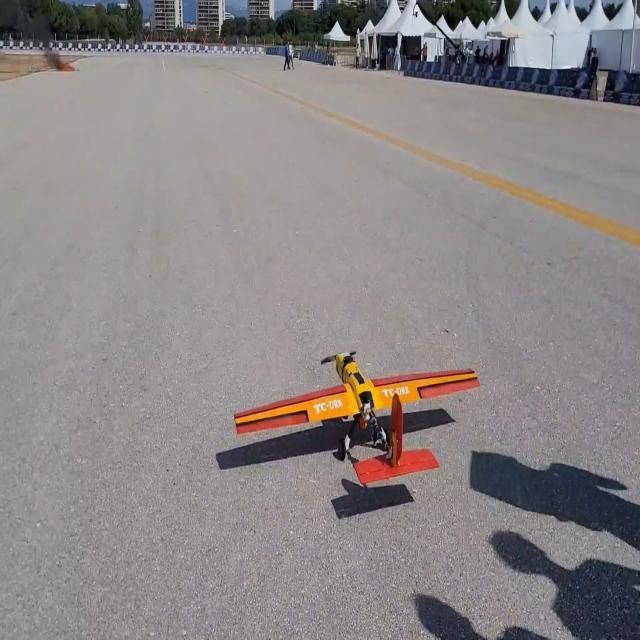UAV: (244, 346, 474, 500)
